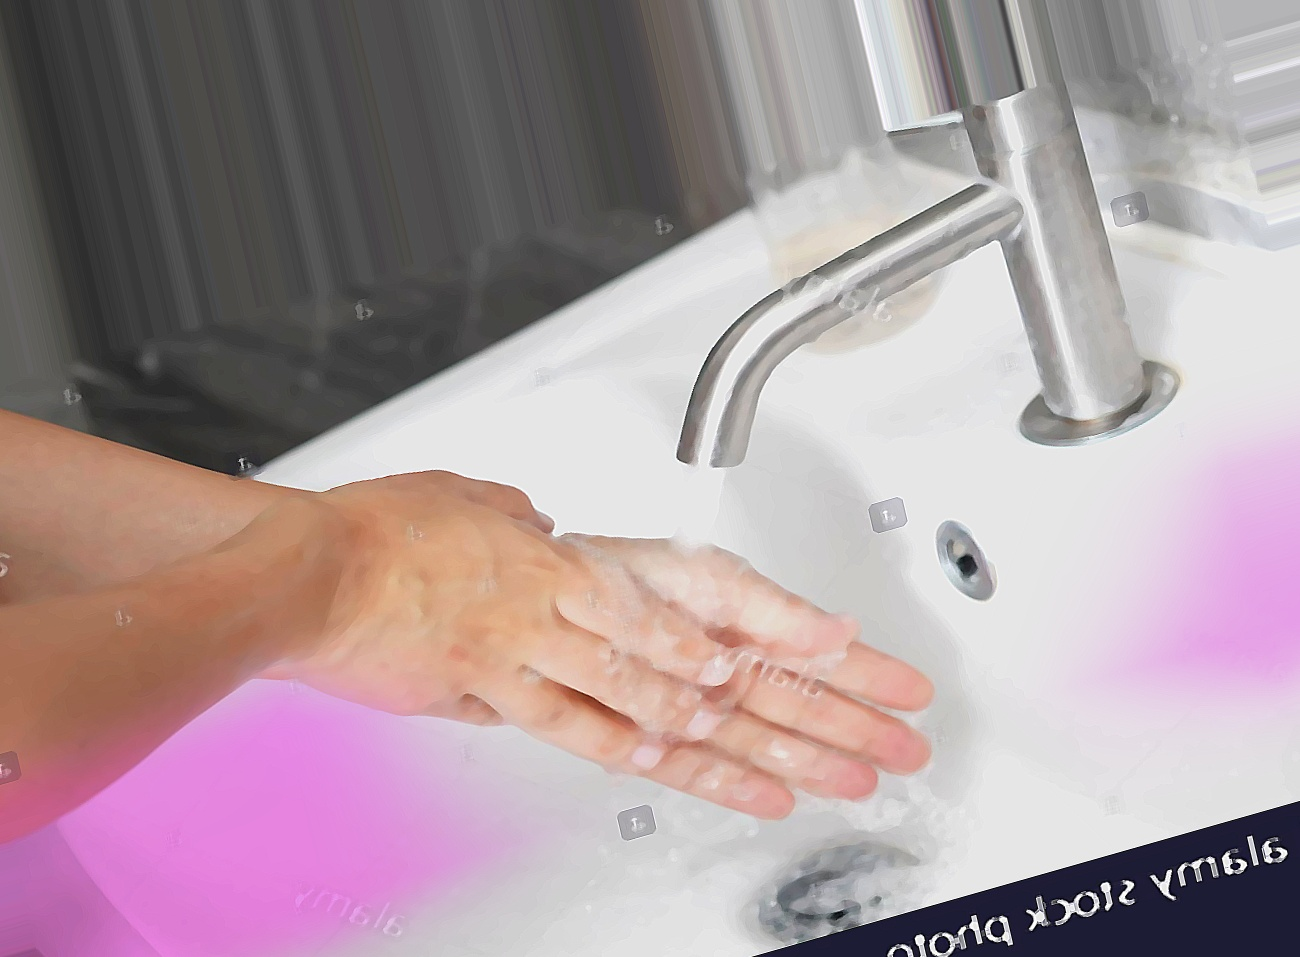washing hand: (321, 121, 1215, 951)
